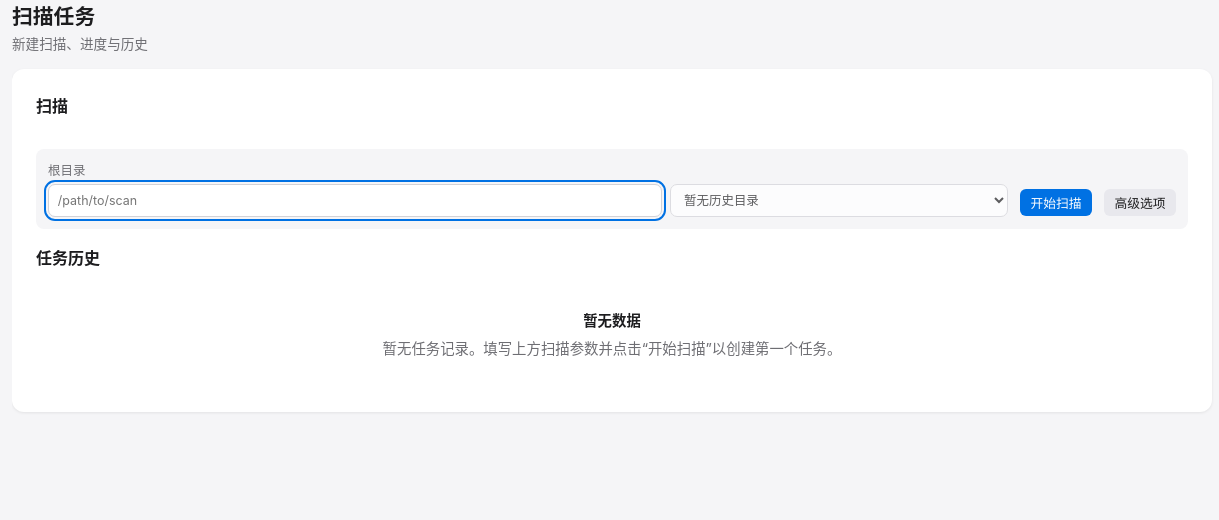
Scenario: ScanJobsPage scan defaults › initializes advanced controls from persisted defaults
Click the button "高级选项" at (1140, 203), box [1104,189,1176,216]
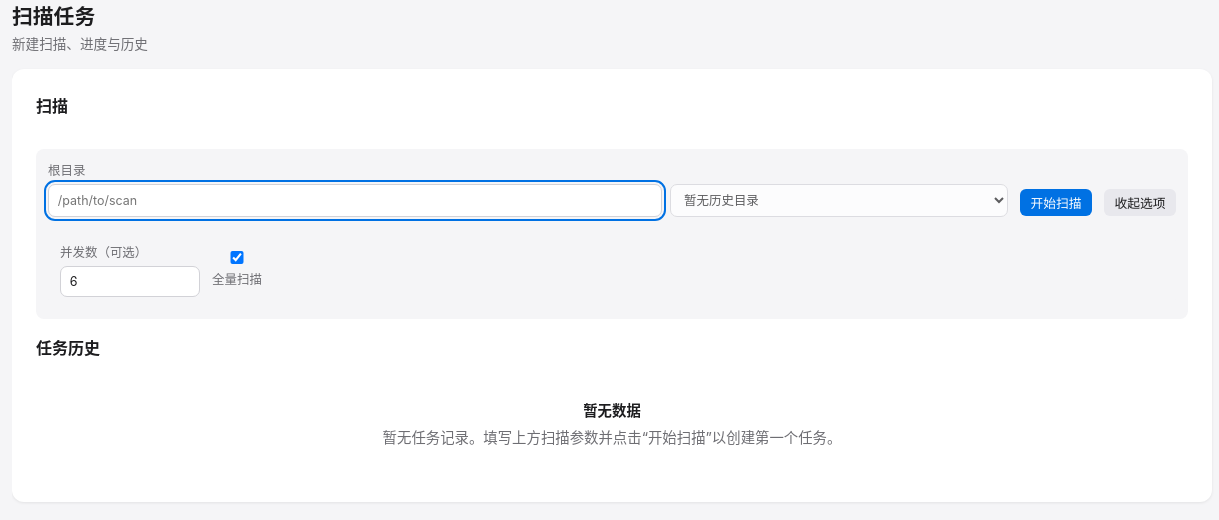
Now the number field labelled "并发数（可选）" holds "6", box [60,266,200,297]
Now the checkbox labelled "全量扫描" is checked, box [212,251,262,264]
